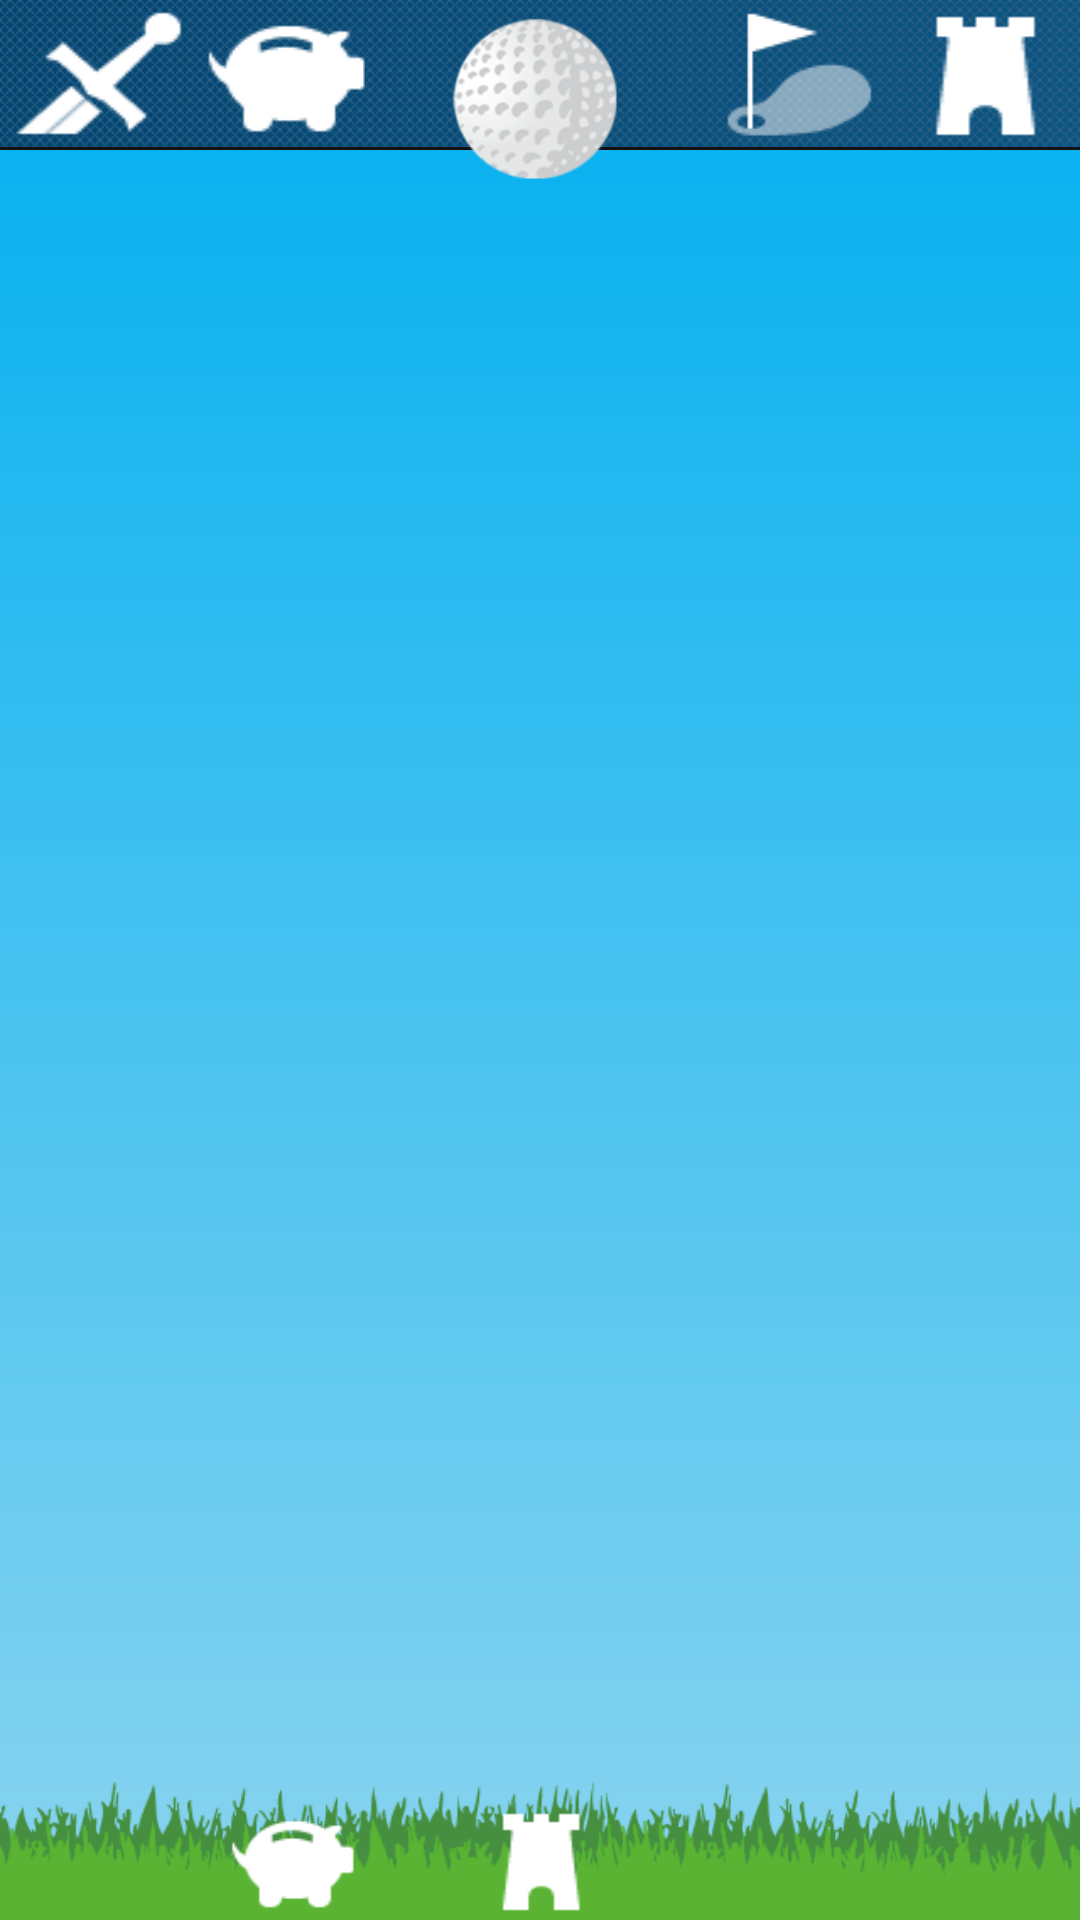

Icons on this 1080px×1920px Android screen, each with the point to tap as [x,y]:
dealsbutton: [288,73], [294,1860]
explorebutton: [799,74]
joustbutton: [96,73]
